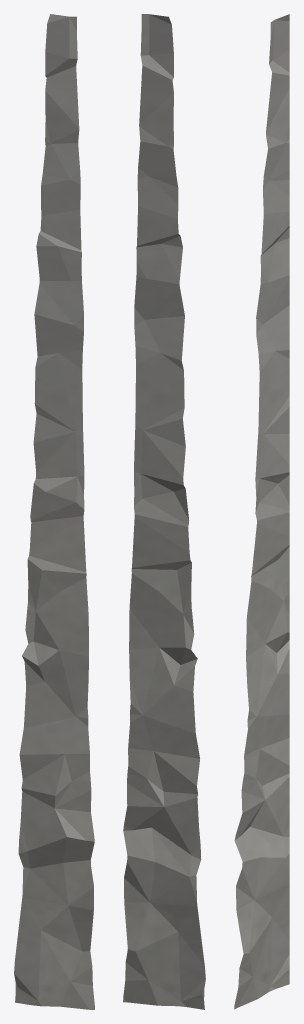
The picture shows the model from 3 angles, left to right: view 1: azimuth 30°, elevation 25°; view 2: azimuth 210°, elevation 25°; view 3: azimuth 270°, elevation 25°; orthographic projection. The views are drawn at different scales.
Size of the model in its own units: 0.0478 by 0.8374 by 0.0427.
1 material, 1 textured.
